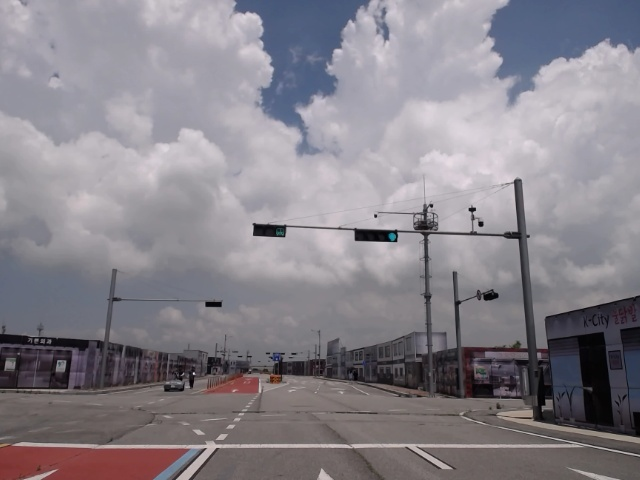straight_green_4: (354, 229, 397, 244)
